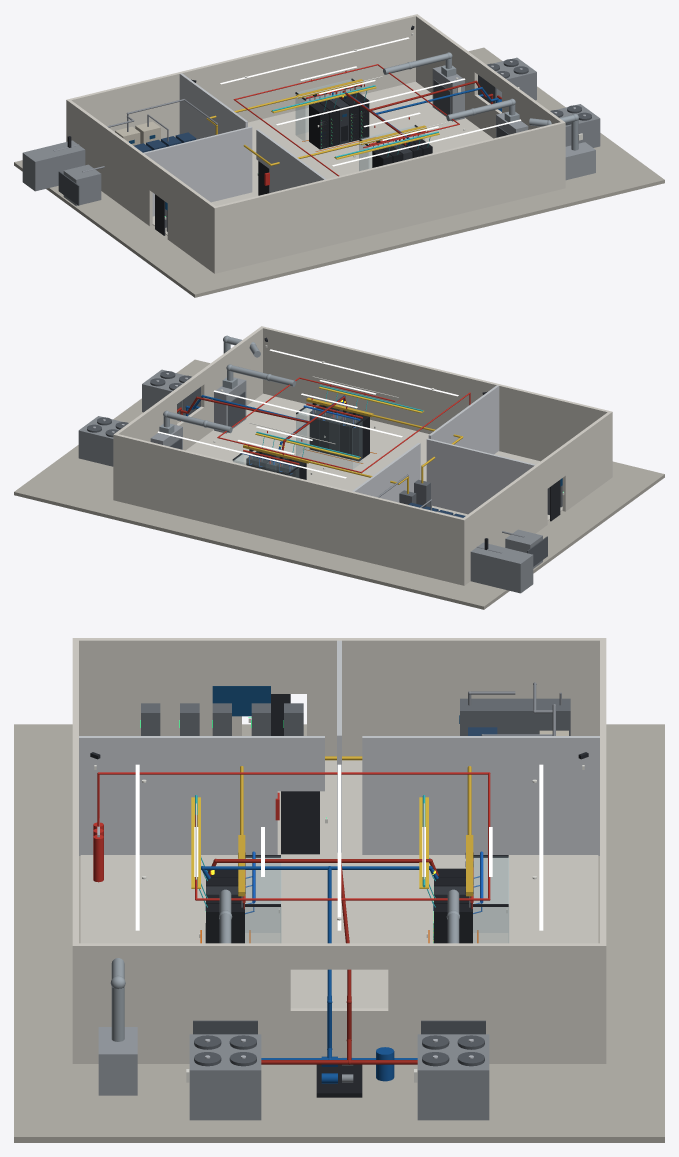
File: hyperscale_hall.glb
3 renders of one model, top to bottom at view 1: azimuth 30°, elevation 25°; view 2: azimuth 150°, elevation 25°; view 3: azimuth 270°, elevation 25°, orthographic. The views are drawn at different scales.
Visible parts, largest first — view 1: wall_north, wall_south, slab, slab_hall_finish, divider_elec_ctrl, wall_west_a, wall_west_b, wall_east_a, partition_a, PWR_generator, partition_b, wall_east_b (+14 smaller); view 2: wall_south, wall_north, slab, slab_hall_finish, divider_elec_ctrl, wall_west_a, wall_west_b, partition_b, wall_east_b, PWR_generator, cell02_containment_back, partition_a (+14 smaller); view 3: slab, slab_hall_finish, partition_a, wall_west_a, wall_east_a, partition_b, wall_east_b, wall_west_b, CHW_drycooler_0, CHW_drycooler_1, wall_east_c, wall_west_door_top (+25 smaller).
Boxes of the visible parts, x1=… form: wall_north: x1=213, y1=121, x2=565, y2=273; wall_south: x1=66, y1=14, x2=418, y2=141; slab: x1=14, y1=47, x2=664, y2=297; slab_hall_finish: x1=152, y1=81, x2=492, y2=235; divider_elec_ctrl: x1=143, y1=126, x2=252, y2=216; wall_west_a: x1=68, y1=100, x2=152, y2=226; wall_west_b: x1=167, y1=173, x2=215, y2=272; wall_east_a: x1=415, y1=15, x2=477, y2=124; partition_a: x1=179, y1=73, x2=247, y2=139; PWR_generator: x1=22, y1=140, x2=85, y2=191; partition_b: x1=269, y1=139, x2=326, y2=192; wall_east_b: x1=502, y1=78, x2=563, y2=129; wall_south: x1=113, y1=433, x2=465, y2=585; wall_north: x1=260, y1=326, x2=612, y2=478; slab: x1=14, y1=359, x2=664, y2=609; slab_hall_finish: x1=186, y1=393, x2=562, y2=520; divider_elec_ctrl: x1=426, y1=438, x2=535, y2=514; wall_west_a: x1=463, y1=458, x2=547, y2=584; wall_west_b: x1=562, y1=412, x2=610, y2=511; partition_b: x1=442, y1=385, x2=499, y2=454; wall_east_b: x1=201, y1=327, x2=263, y2=436; PWR_generator: x1=470, y1=542, x2=533, y2=593; cell02_containment_back: x1=296, y1=414, x2=352, y2=469; partition_a: x1=352, y1=443, x2=420, y2=502; slab: x1=14, y1=724, x2=664, y2=1142; slab_hall_finish: x1=80, y1=760, x2=598, y2=1008; partition_a: x1=362, y1=736, x2=599, y2=855; wall_west_a: x1=307, y1=638, x2=599, y2=756; wall_east_a: x1=388, y1=943, x2=602, y2=1063; partition_b: x1=79, y1=736, x2=277, y2=855; wall_east_b: x1=76, y1=943, x2=290, y2=1063; wall_west_b: x1=79, y1=638, x2=241, y2=735; CHW_drycooler_0: x1=417, y1=1034, x2=489, y2=1120; CHW_drycooler_1: x1=189, y1=1034, x2=261, y2=1120; wall_east_c: x1=287, y1=1008, x2=391, y2=1057; wall_west_door_top: x1=242, y1=638, x2=306, y2=693.
Bounding box in the file's own units: 30.9 × 4.3 × 20.
